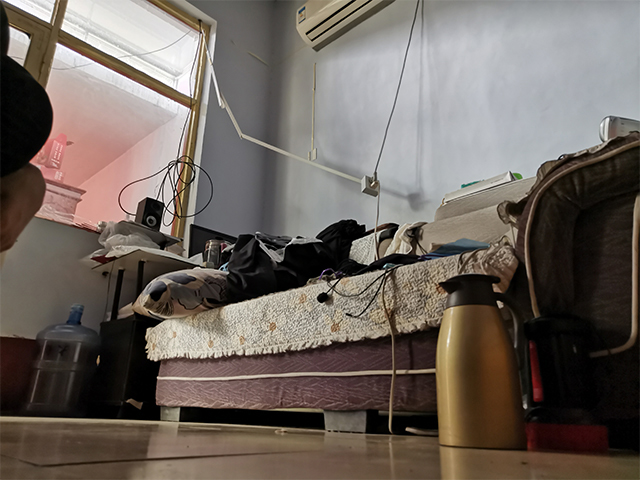sofa: (143, 127, 640, 436)
wire: (116, 1, 421, 436), (314, 266, 401, 434), (357, 57, 405, 228)
